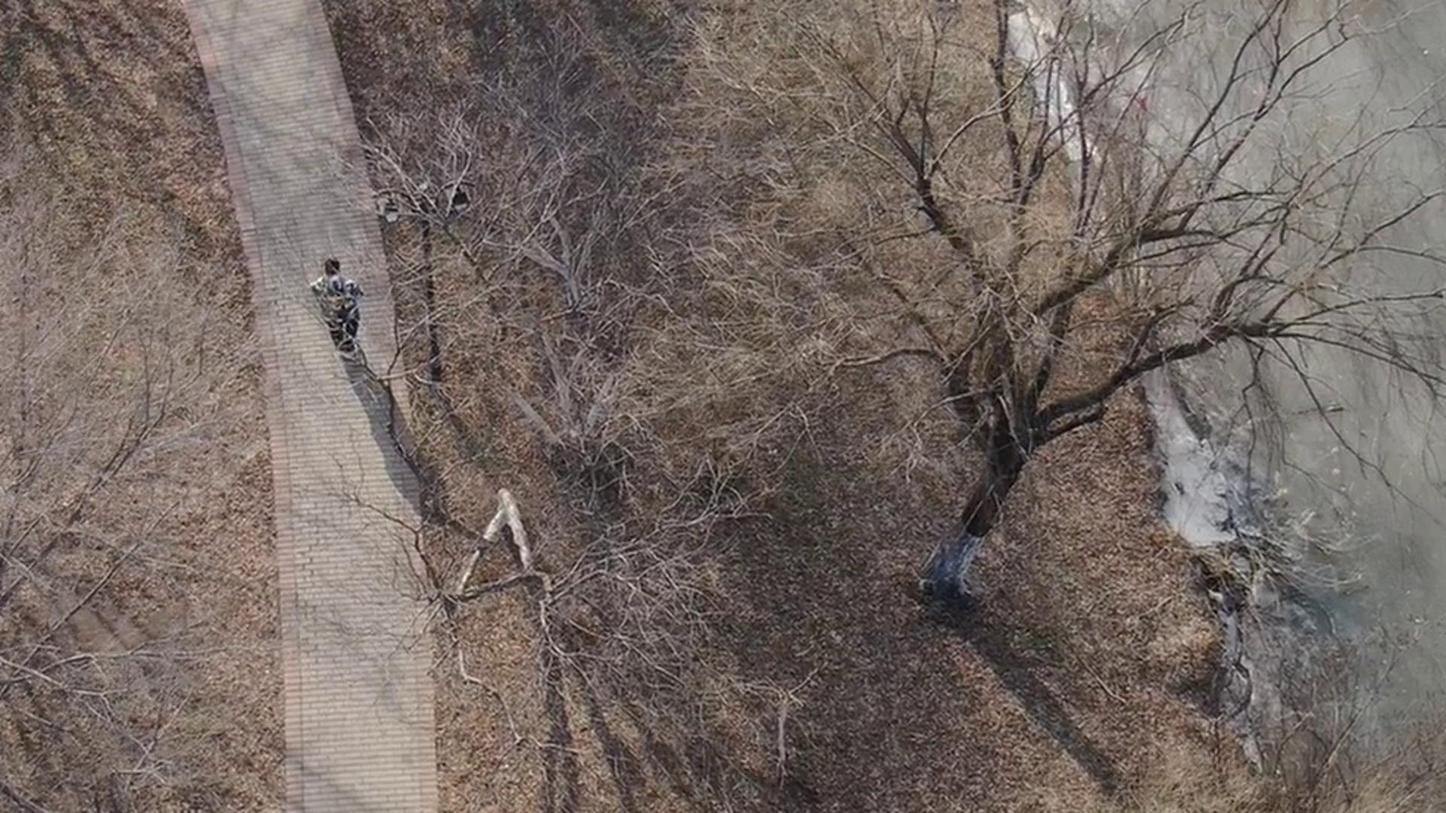human: (282, 263, 332, 358)
